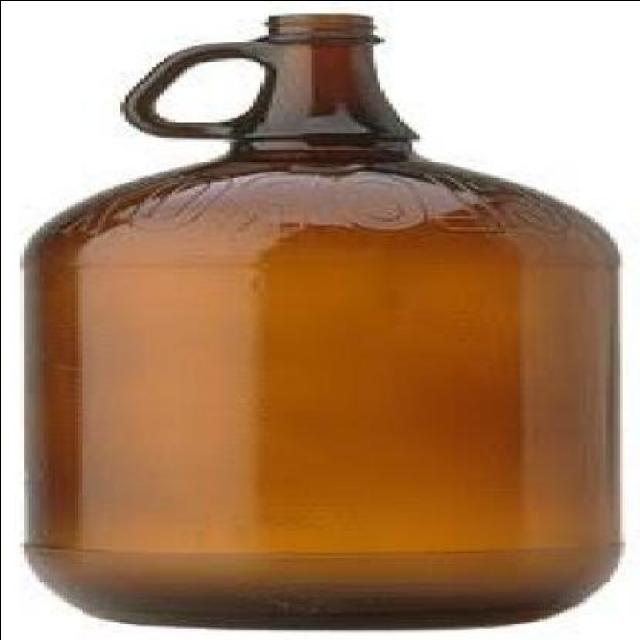kaca: (28, 10, 624, 628)
